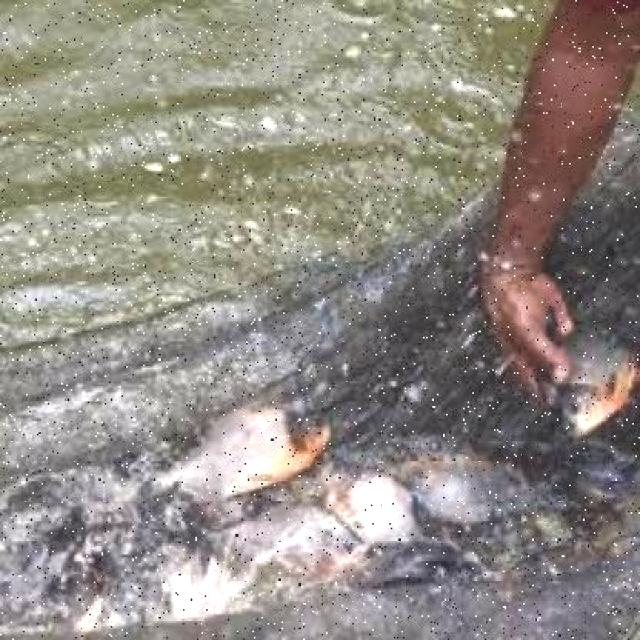ikan-pacu: (156, 393, 327, 493), (558, 323, 640, 434)
